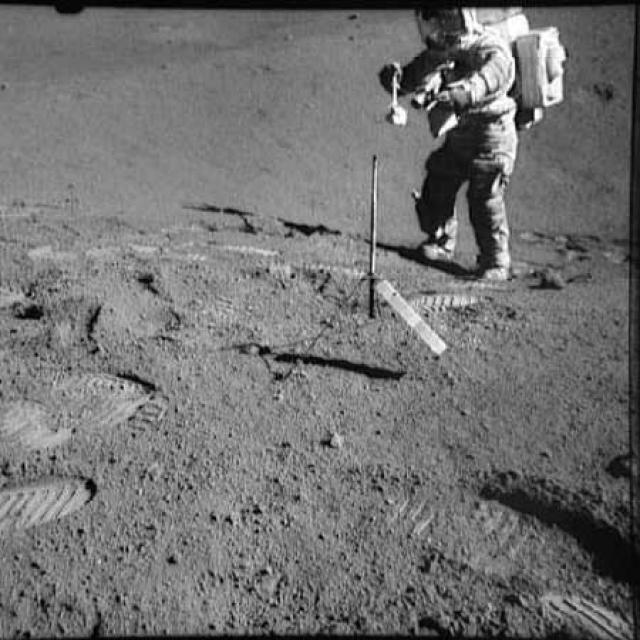artifact: (380, 3, 580, 287), (285, 146, 450, 366)
